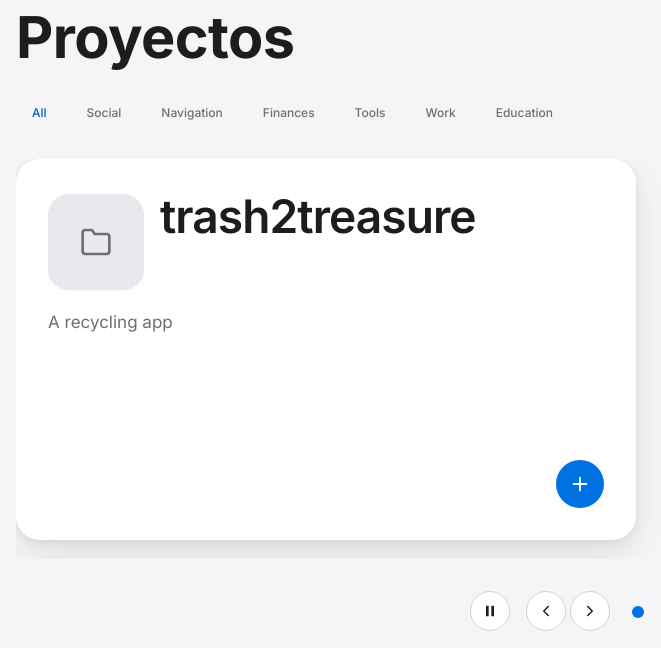
Test: Projects › lists a project without categories under All but not under a category
Click the button "Social": coordinates (104, 114) [71, 92, 137, 136]
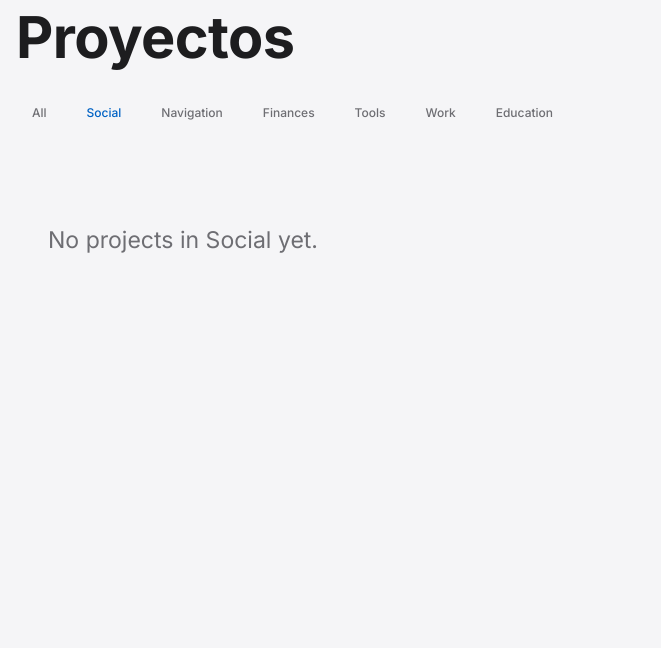
Check: the text "No projects in Social yet." is shown, box [48, 224, 318, 258]
